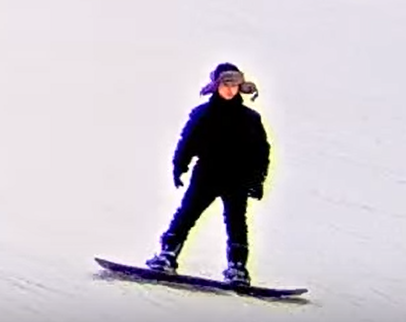snowboarder: (93, 61, 309, 300)
